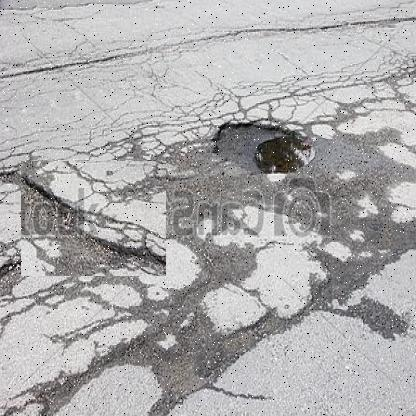damage: (84, 248, 295, 409), (20, 161, 166, 277)
pothole: (211, 114, 321, 181)
